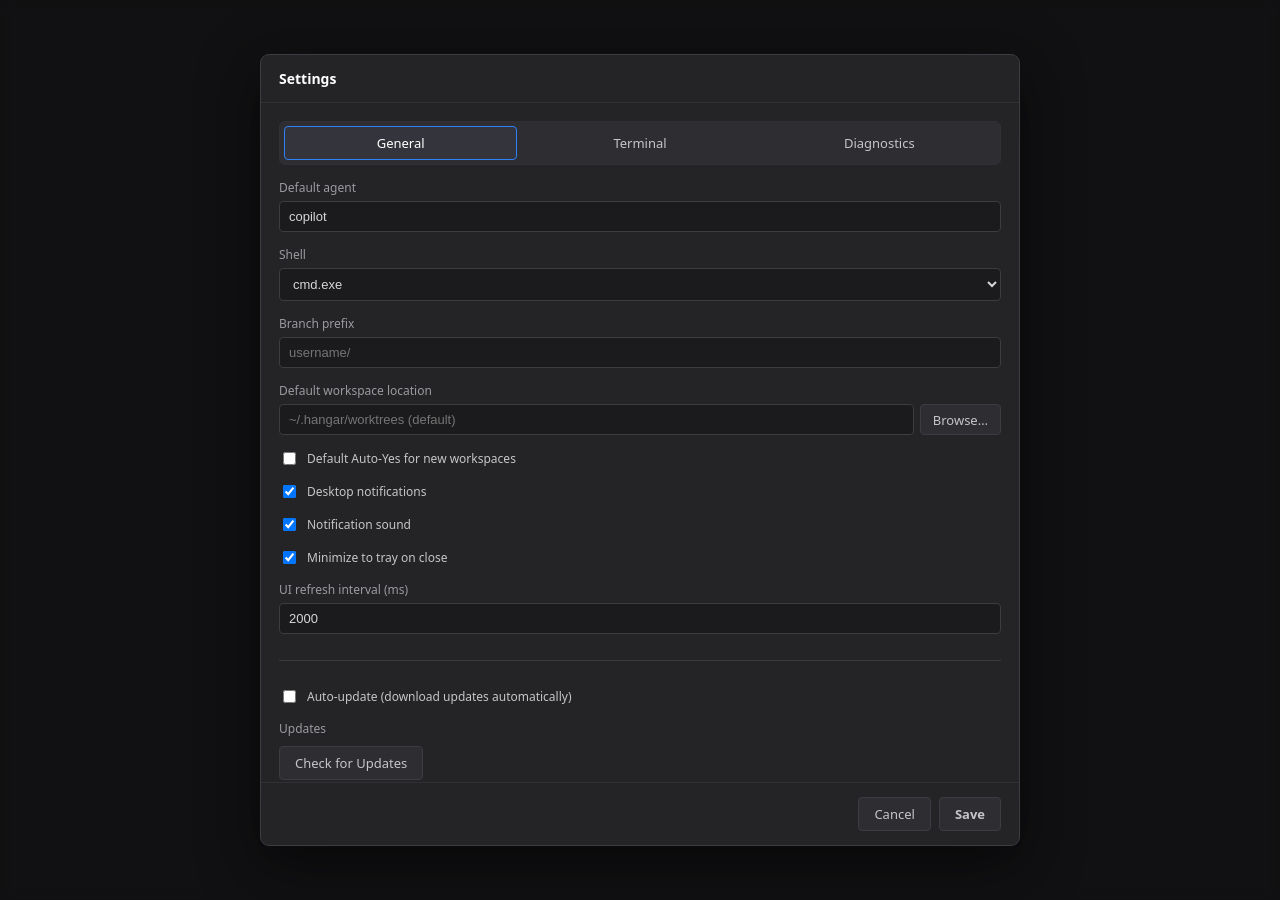
Test case: SettingsModal › adds a new terminal profile row
Click the tab "Terminal" at (640, 143), box x1=523 y1=126 x2=757 y2=160
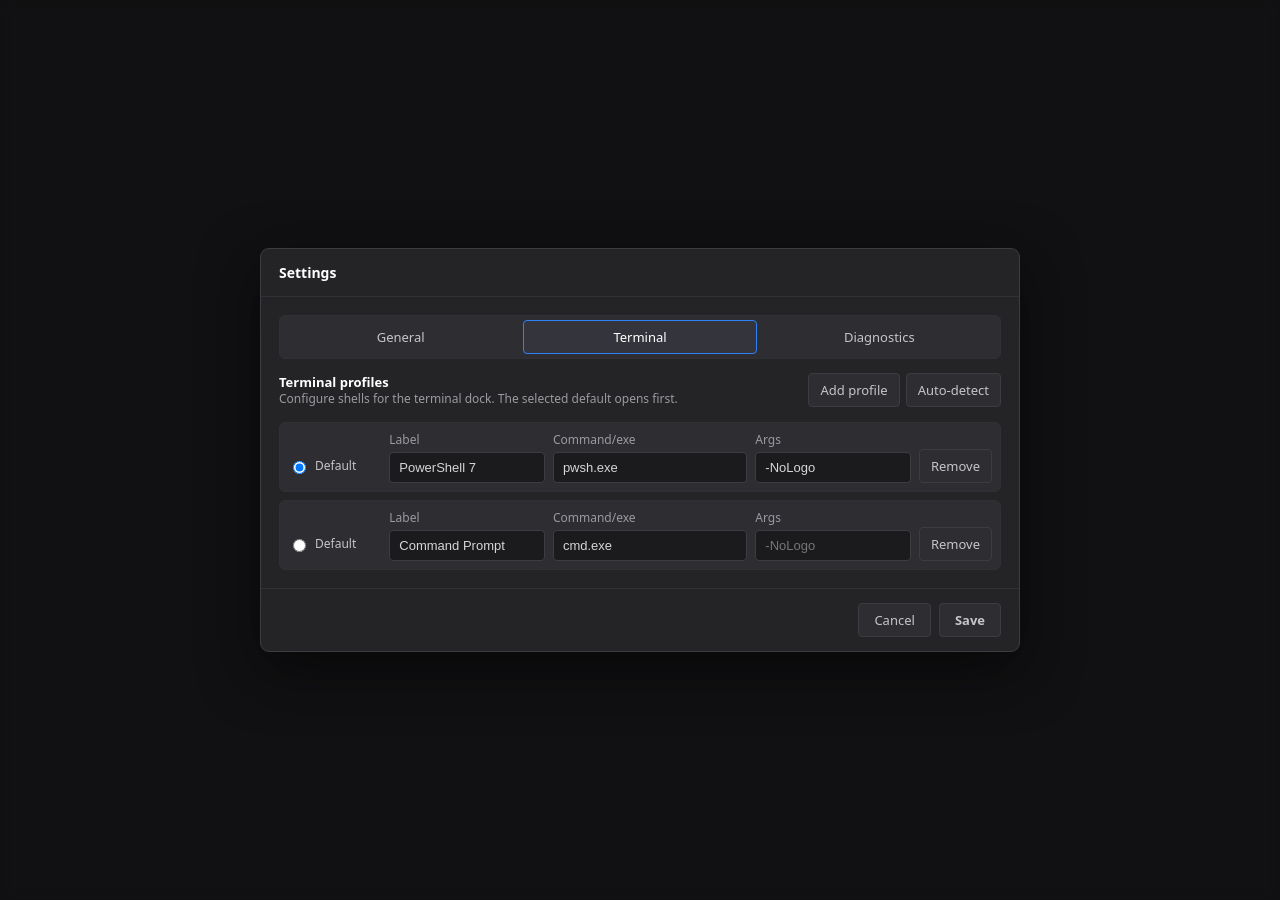
Click the button "Add profile" at (854, 390), box x1=808 y1=373 x2=900 y2=407
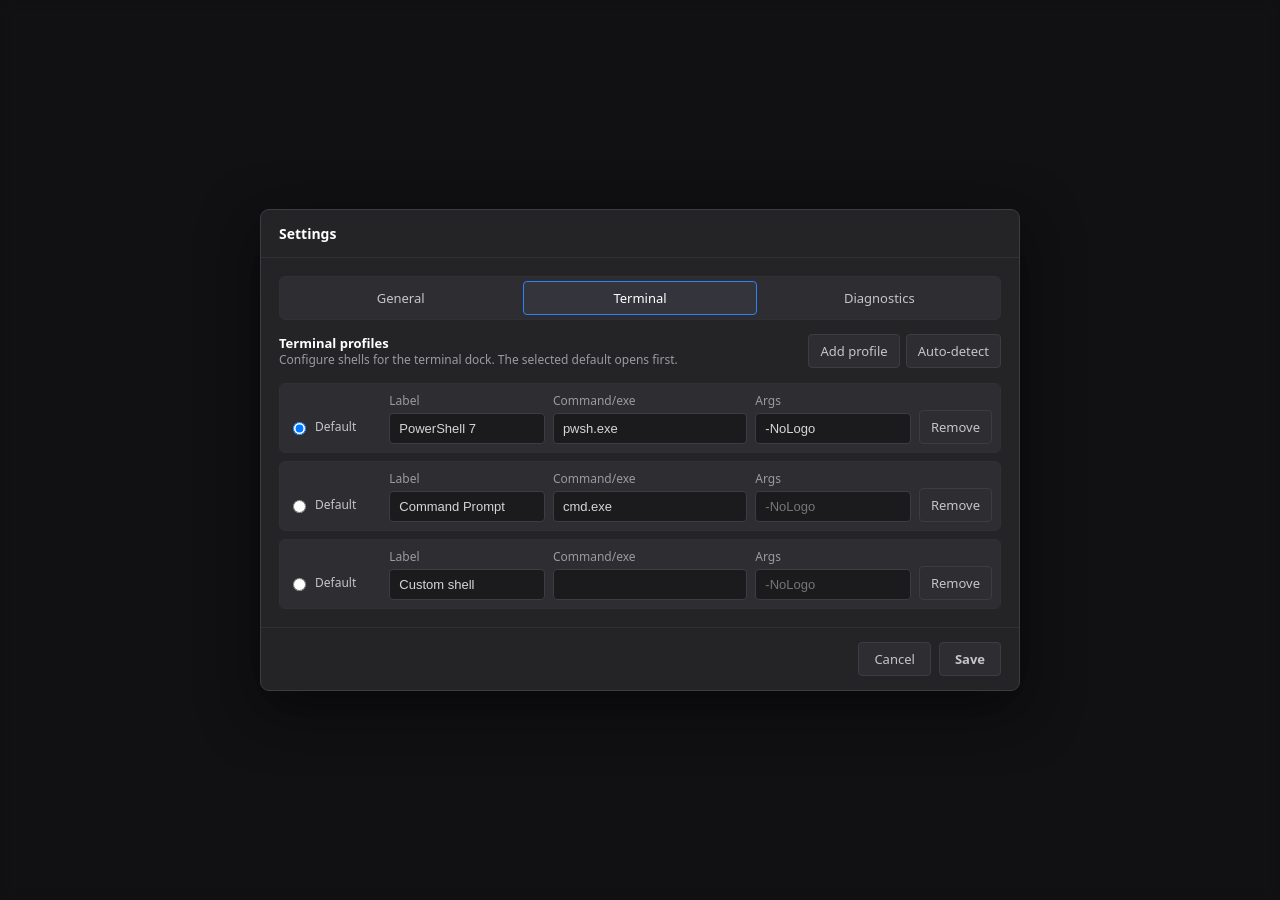
expect the 3rd field showing "Custom shell" is shown: met, box x1=389 y1=569 x2=545 y2=600
